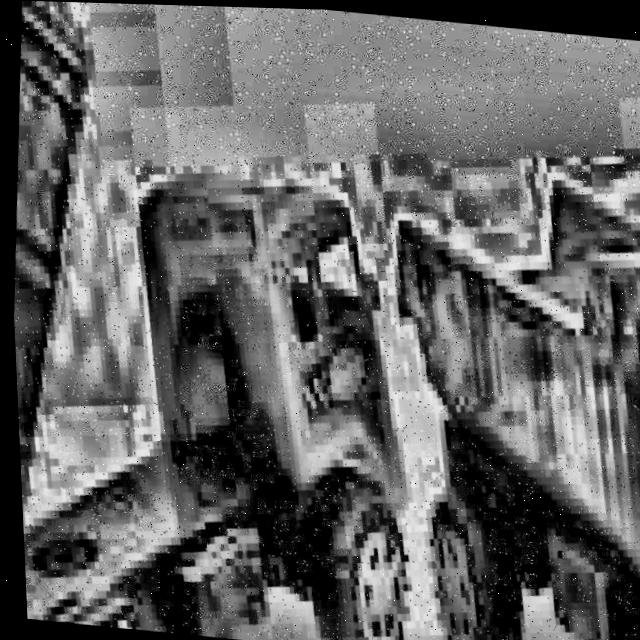dump_truck: (0, 0, 484, 640), (344, 118, 640, 640)
